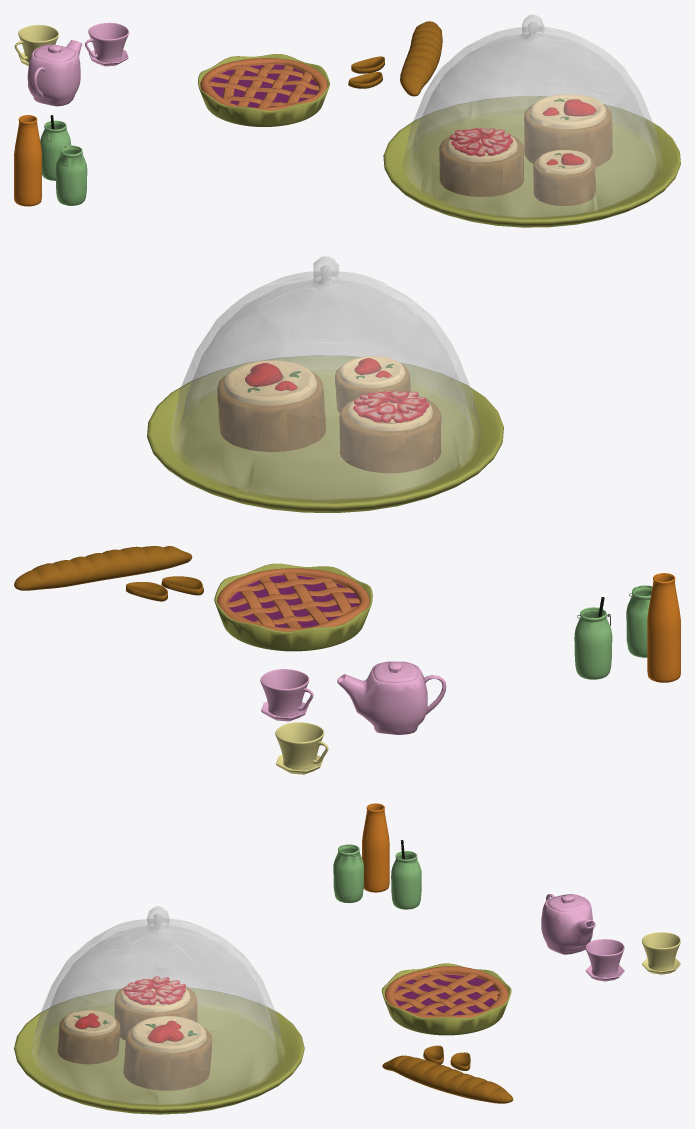
File: picnc.fbx
3 renders of one model, top to bottom at view 1: azimuth 30°, elevation 25°; view 2: azimuth 150°, elevation 25°; view 3: azimuth 270°, elevation 25°, orthographic. The views are drawn at different scales.
Visible parts, largest first — view 1: Glass_Material.001_0, Cube.001, Tart.006_Tart.006_0, Tart.002_Tart.002_0, Tart.002_Tart.002_0.001, Kettle, Cube.008, Cube.011, Bread, BézierCurve, Cube.010, HoneyStick (+3 smaller); view 2: Glass_Material.001_0, Tart.002_Tart.002_0, Cube.001, Tart.006_Tart.006_0, Kettle, Bread, Cube.008, Cube.011, Tart.002_Tart.002_0.001, HoneyStick, Cube.002, Cube.010 (+1 smaller); view 3: Glass_Material.001_0, Tart.002_Tart.002_0, Cube.001, Tart.006_Tart.006_0, Tart.002_Tart.002_0.001, Bread, Kettle, Cube.008, Cube.011, HoneyStick, BézierCurve, Cube.002 (+1 smaller).
Part boxes in pixels (x1,y1,x2,y2): Glass_Material.001_0: (383, 14, 680, 227); Cube.001: (200, 58, 327, 110); Tart.006_Tart.006_0: (439, 128, 523, 196); Tart.002_Tart.002_0: (524, 94, 612, 166); Tart.002_Tart.002_0.001: (533, 150, 595, 205); Kettle: (27, 40, 82, 106); Cube.008: (198, 54, 329, 126); Cube.011: (14, 115, 41, 206); Bread: (400, 21, 442, 96); BézierCurve: (55, 145, 87, 205); Cube.010: (85, 22, 129, 66); HoneyStick: (40, 115, 71, 180); Glass_Material.001_0: (147, 256, 503, 512); Tart.002_Tart.002_0: (217, 360, 325, 451); Cube.001: (217, 568, 369, 631); Tart.006_Tart.006_0: (339, 391, 441, 473); Kettle: (337, 661, 446, 734); Bread: (14, 546, 192, 590); Cube.008: (214, 563, 372, 651); Cube.011: (647, 573, 680, 682); Tart.002_Tart.002_0.001: (335, 356, 410, 412); HoneyStick: (574, 597, 612, 679); Cube.002: (275, 722, 328, 774); Cube.010: (260, 669, 313, 721); Glass_Material.001_0: (14, 906, 304, 1114); Tart.002_Tart.002_0: (123, 1016, 212, 1090); Cube.001: (385, 966, 508, 1017); Tart.006_Tart.006_0: (114, 976, 197, 1040); Tart.002_Tart.002_0.001: (57, 1010, 120, 1064); Bread: (382, 1055, 513, 1103); Kettle: (541, 894, 595, 954); Cube.008: (381, 963, 511, 1035); Cube.011: (362, 803, 389, 892); HoneyStick: (391, 840, 421, 909); BézierCurve: (333, 844, 363, 903); Cube.002: (642, 932, 680, 974).
Size of the model in its own units: 391 by 125 by 433.
Materials: 17 (5 with a texture image).
